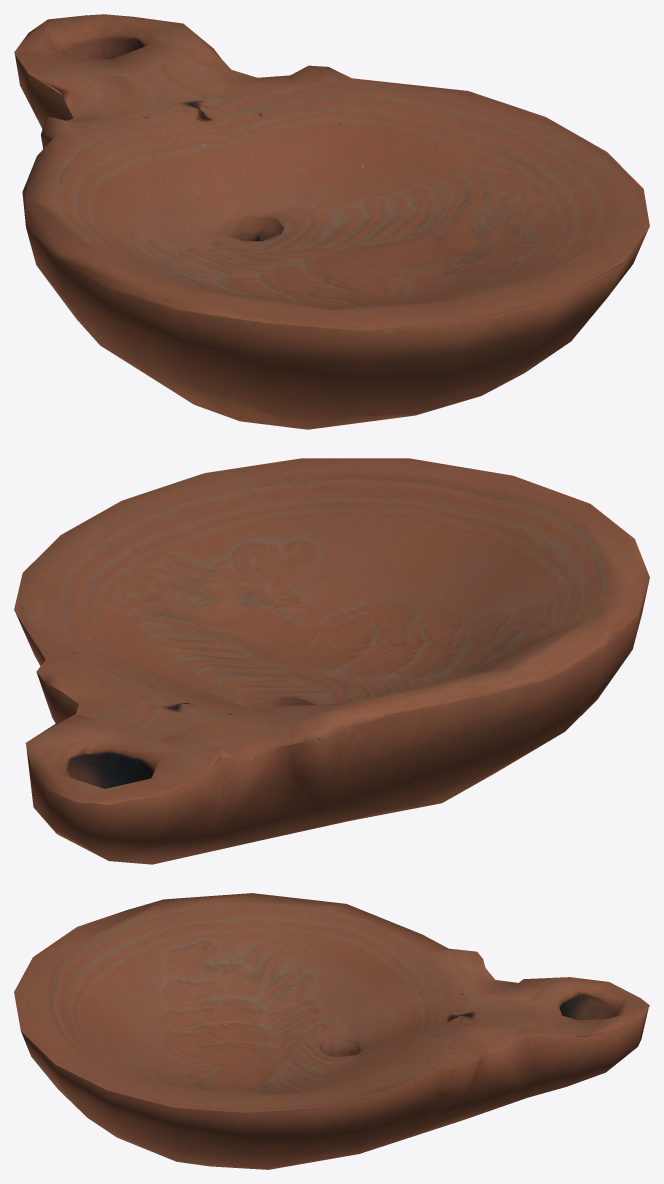
Rendered from lucerna.glb.
The picture shows the model from 3 angles, top to bottom: view 1: azimuth 30°, elevation 25°; view 2: azimuth 150°, elevation 25°; view 3: azimuth 270°, elevation 25°; orthographic projection. The views are drawn at different scales.
Visible parts, largest first — view 1: Object_2; view 2: Object_2; view 3: Object_2.
Part boxes in pixels (x1=…): Object_2: x1=14, y1=14, x2=649, y2=429; Object_2: x1=14, y1=458, x2=649, y2=864; Object_2: x1=14, y1=893, x2=649, y2=1169.
Size of the model in its own units: 0.0846 by 0.0273 by 0.1147.
1 material, 1 textured.
